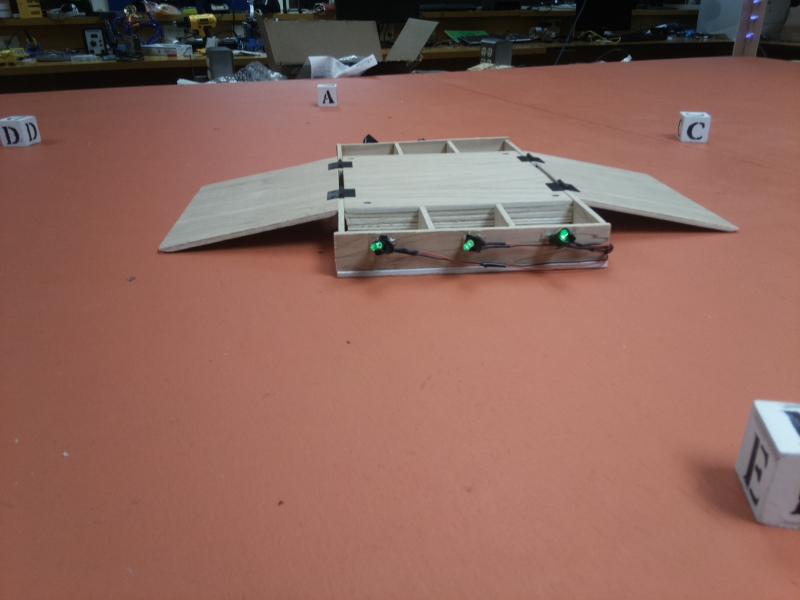blockA: (314, 84, 338, 109)
blockC: (675, 109, 716, 145)
blockD: (1, 111, 46, 151)
blockE: (736, 396, 799, 535)
corner: (729, 1, 769, 61)
side: (334, 204, 611, 280)
slope: (155, 149, 335, 259), (531, 150, 746, 238)
